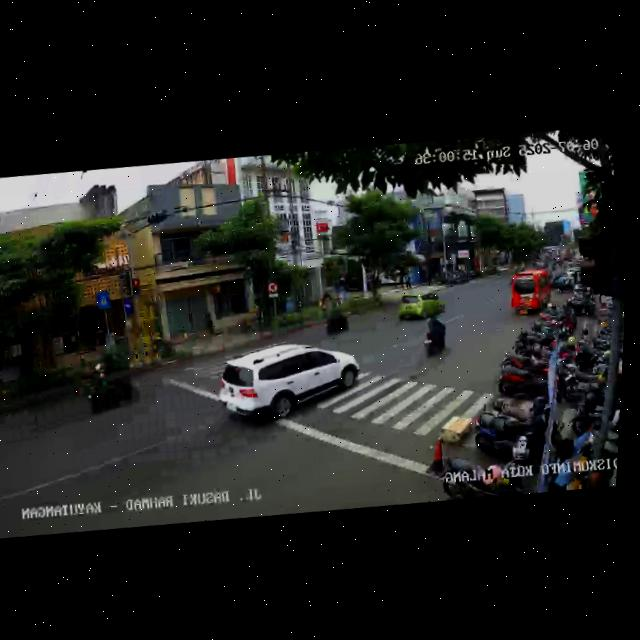car: (215, 334, 366, 434), (506, 266, 554, 319), (393, 285, 447, 326)
motorcycle: (79, 358, 139, 419), (419, 311, 451, 359), (320, 302, 351, 338)
